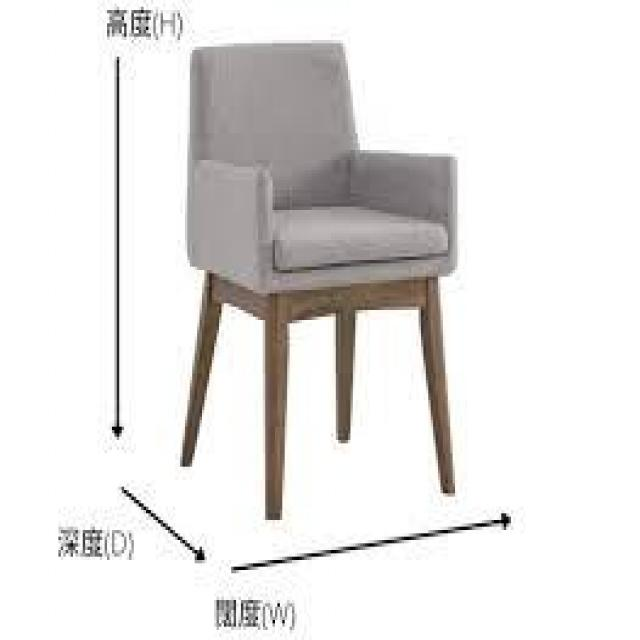chair: (161, 36, 477, 506)
